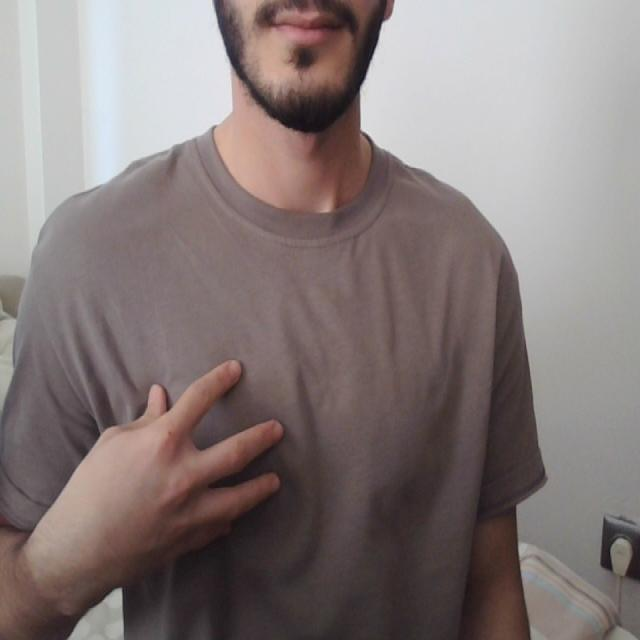Anne: (57, 346, 521, 607)
